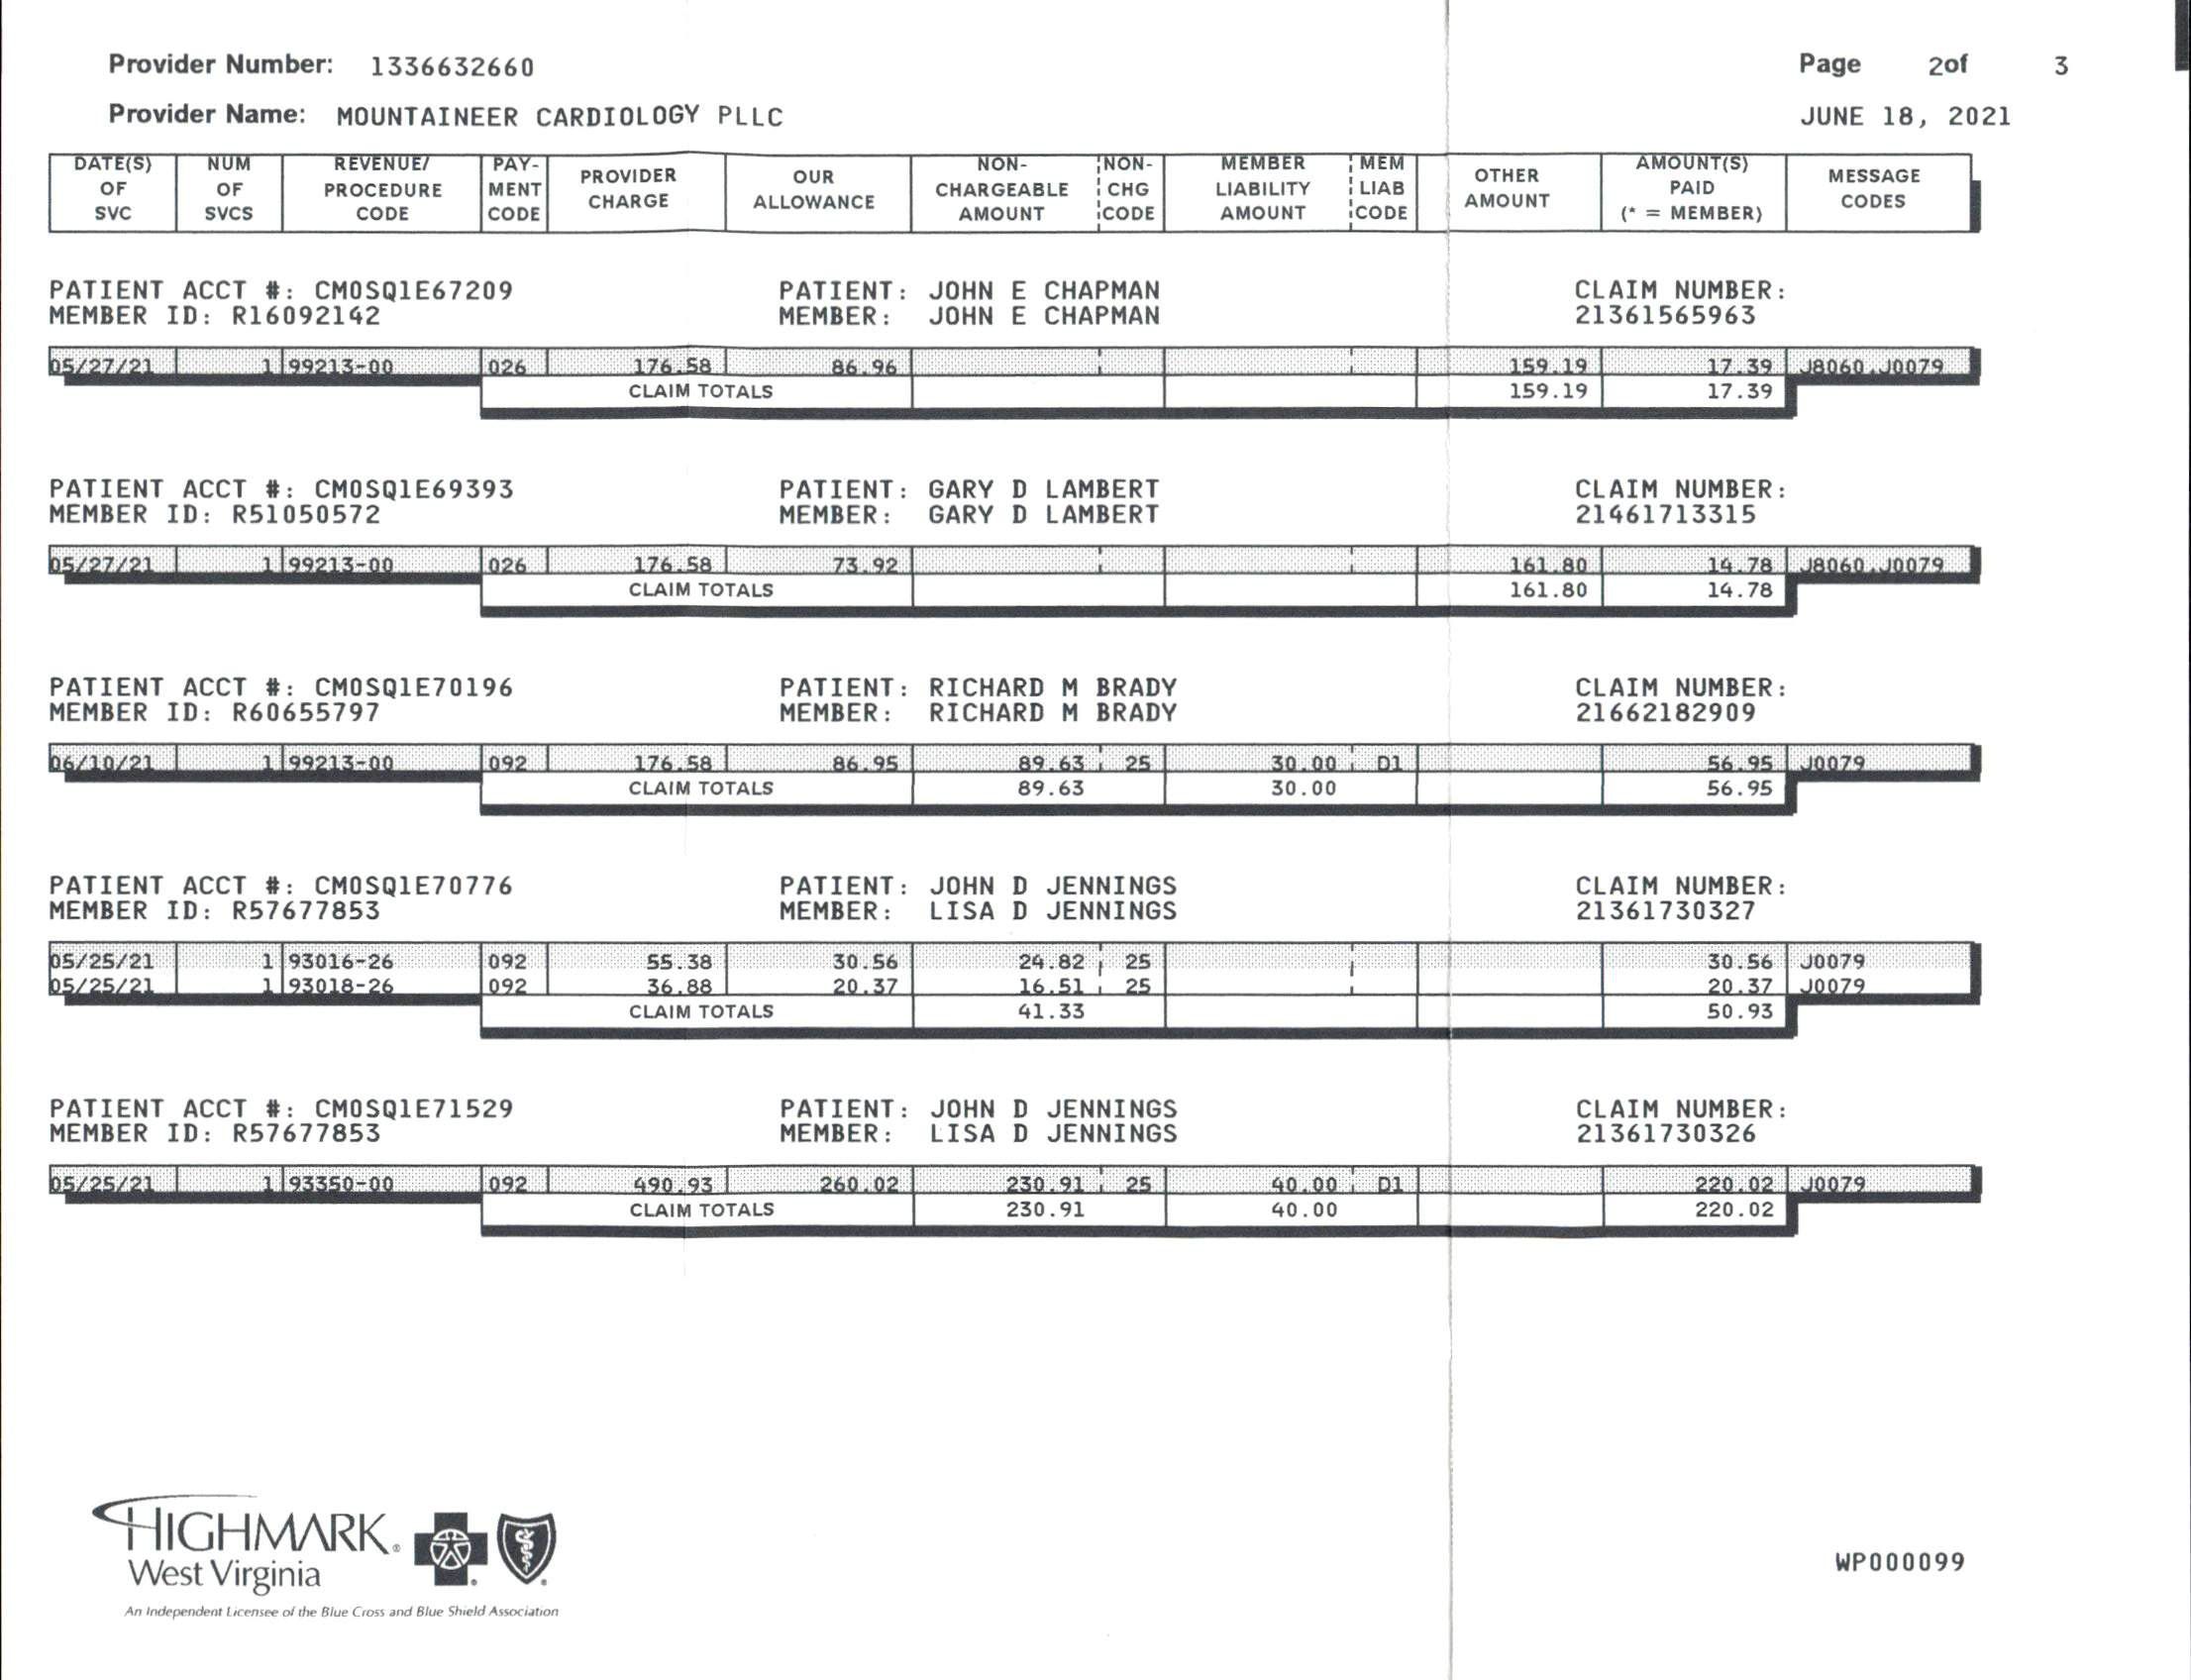data: (78, 35, 804, 146), (39, 656, 540, 731), (28, 1075, 529, 1149), (42, 457, 545, 529), (30, 852, 527, 925), (752, 658, 1196, 736), (774, 459, 1171, 542), (774, 1073, 1198, 1151), (49, 261, 517, 330), (767, 854, 1191, 930), (764, 263, 1163, 330), (1558, 656, 1808, 748), (1552, 261, 1794, 337), (1567, 859, 1794, 935), (1565, 1084, 1801, 1154), (1554, 461, 1778, 531)
table: (39, 150, 2009, 1258)
